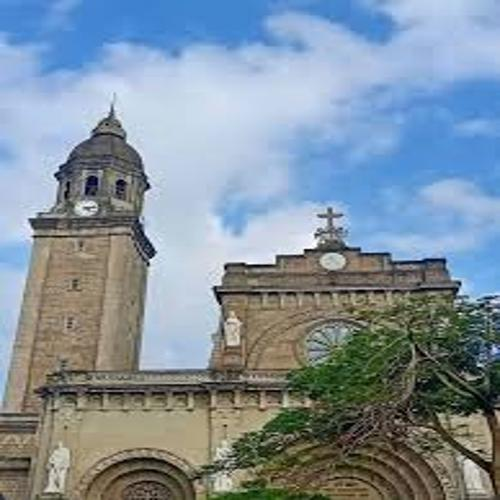Manila Cathedral Church: (7, 80, 495, 498)
